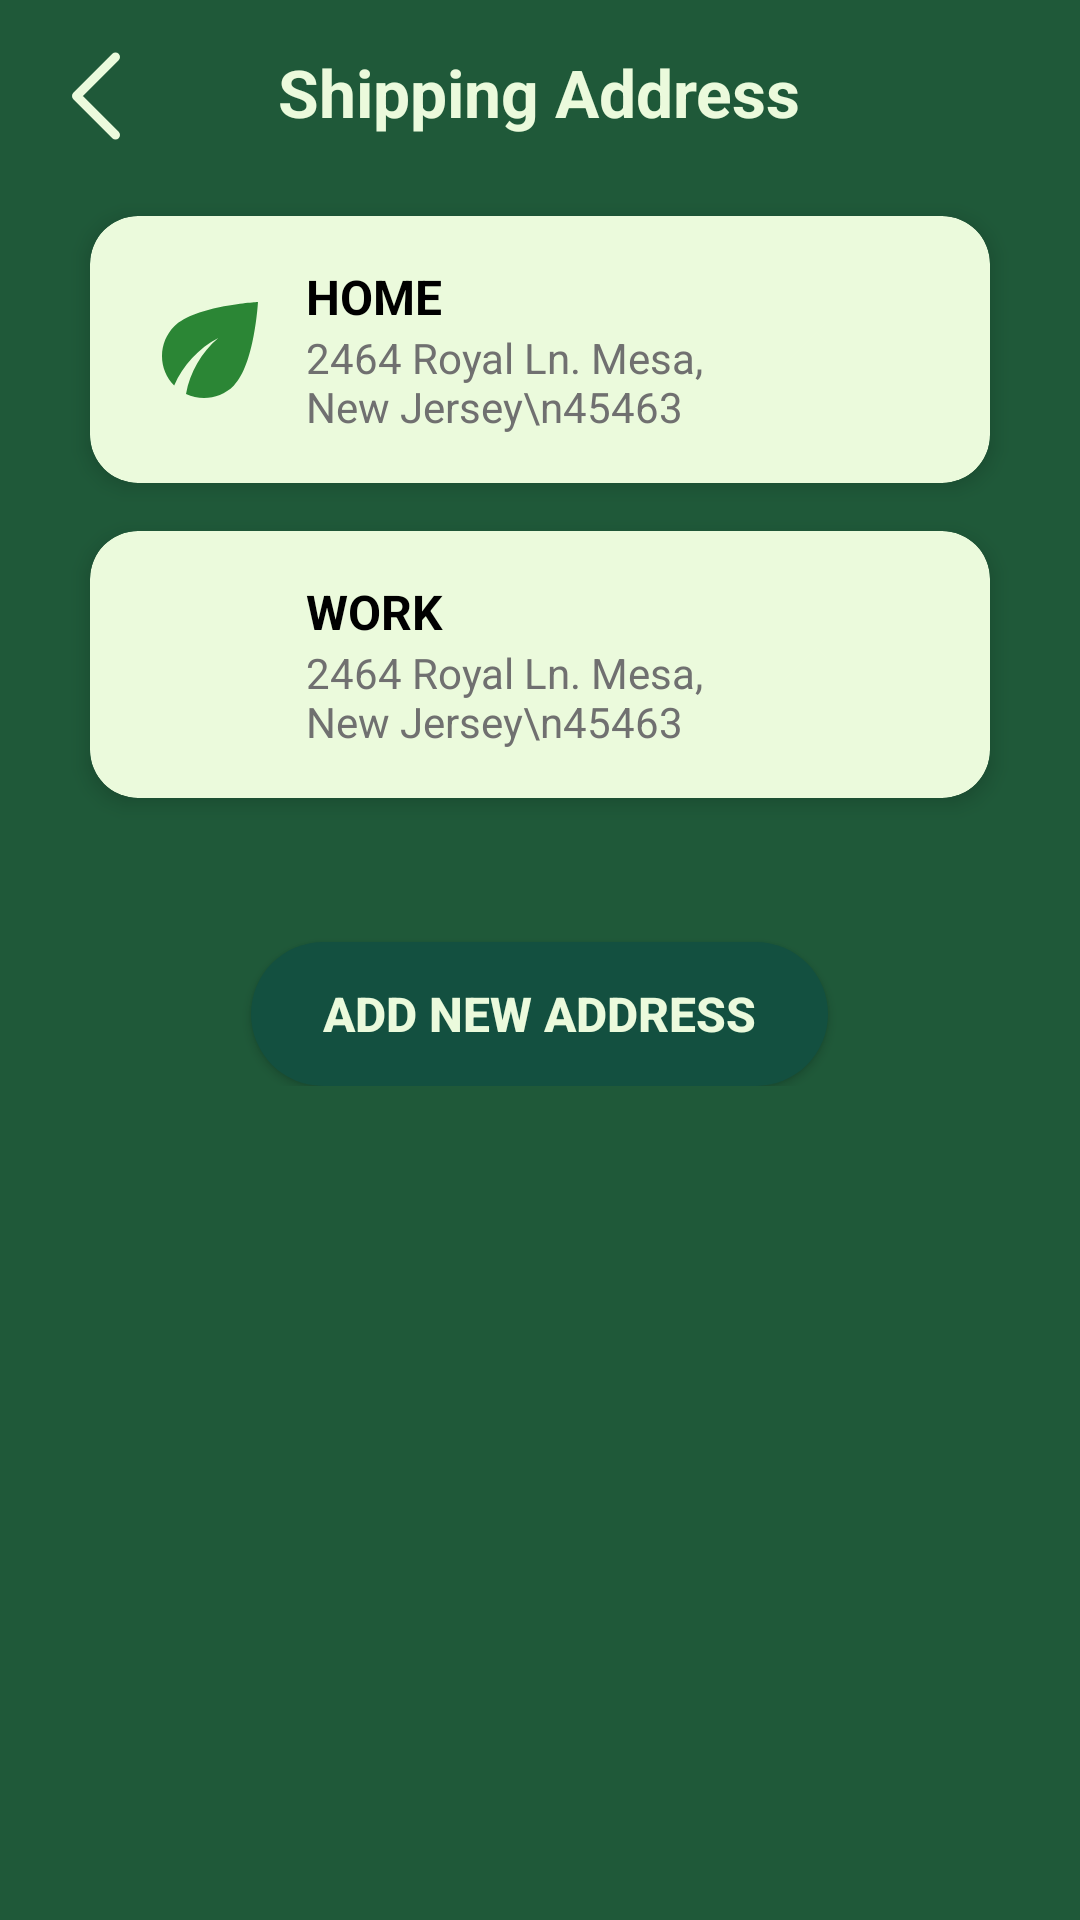

Where icons sit on this 1080px×1920px app screen, as (x1, y1, x2, y2):
Back Button: (72, 52, 120, 140)
